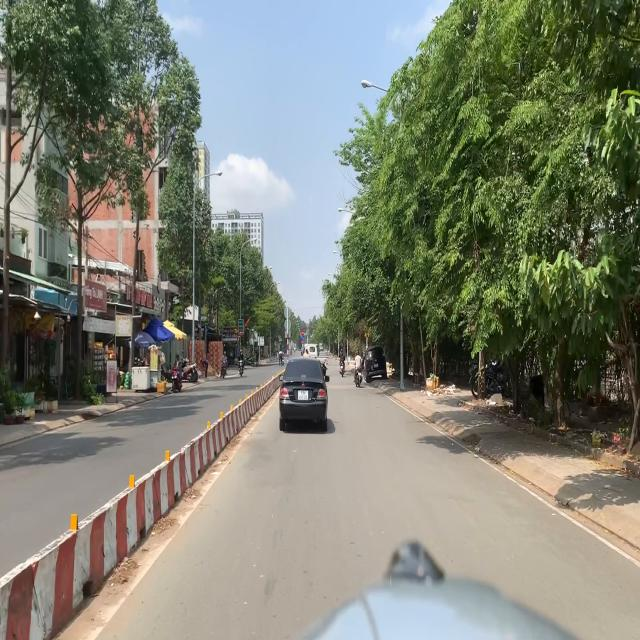Cam nguoc chieu: (301, 330, 304, 335)
Hieu lenh: (302, 336, 304, 340)
